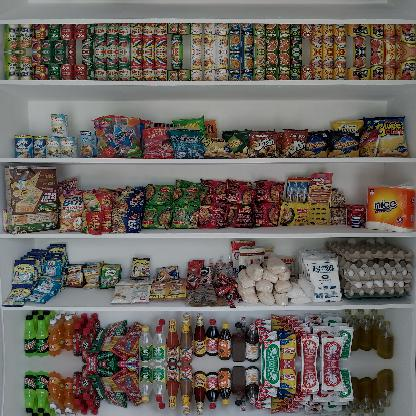Koko-Krunch: (3, 162, 62, 236)
